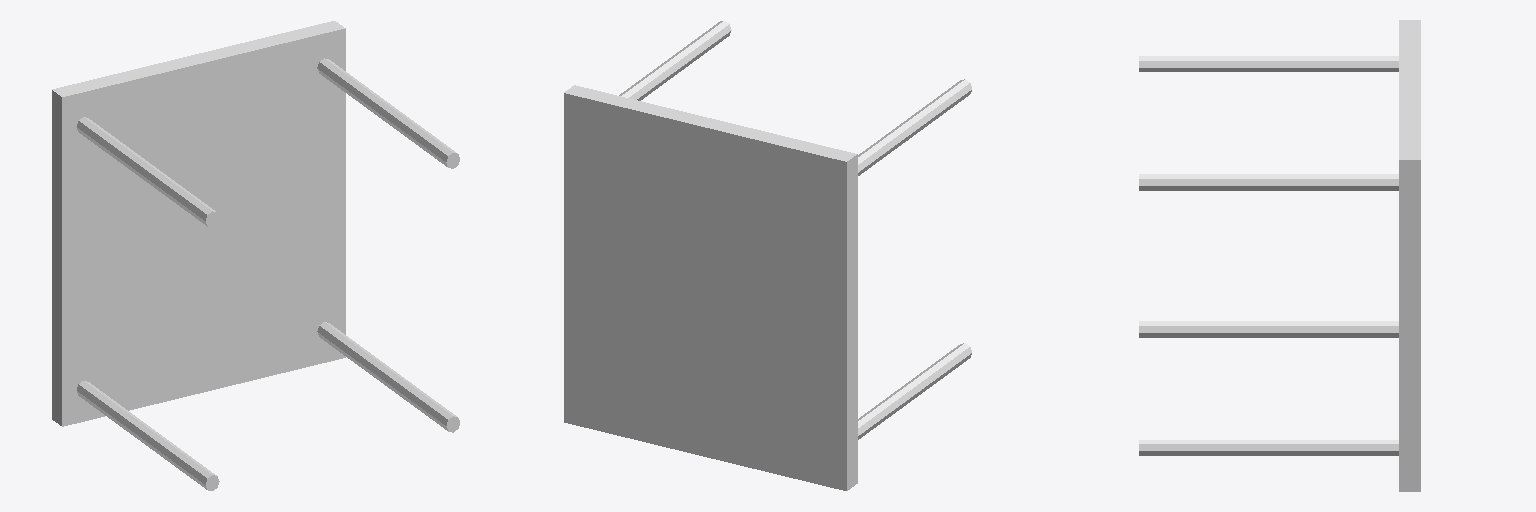
robot.urdf — lab_white_table_1:
<?xml version="1.0"?>
<robot name="lab_white_table_1">
	<link name="base">
        <inertial>
        	<origin xyz="0 0 0" rpy="0 0 0"/>
        	<mass value="0.05"/>
            <inertia ixx="0.000683333"  ixy="0"  ixz="0" iyy="0.000683333" iyz="0" izz="0.000683333" />
        </inertial>
        <visual>
            <!--origin xyz="0.001 0.00288 -0.013" rpy="0 0 0" /-->
            <origin xyz="0.0 0.0 0.0" rpy="0 0 0" />
            <geometry>
                <mesh filename="ioclab_files/white_table_995_895_765.dae" scale="1 1 1"/>
            </geometry>
            <!--
            <material>
                <color rgba="1 0 0 1" />
            </material>
            -->
        </visual>
        <collision>
            <geometry>
                <mesh filename="ioclab_files/white_table_995_895_765.dae" scale="1 1 1"/>
            </geometry>
            <material>
                <color rgba="1 0 0 1" />
            </material>
        </collision>
	</link>
</robot>

--- Render facts (derived) ---
The picture shows the robot from 3 angles, left to right: view 1: azimuth 30°, elevation 25°; view 2: azimuth 150°, elevation 25°; view 3: azimuth 270°, elevation 25°; orthographic projection.
Robot: lab_white_table_1 — 1 links, 0 joints (none); root link base; default pose: every joint at zero.
Visible links, largest first — view 1: base; view 2: base; view 3: base.
Link boxes in pixels (x1,y1,x2,y2): base: (52,21,459,490); base: (564,21,971,490); base: (1139,20,1420,491).
Bounding box of the posed robot: 0.895 × 0.765 × 0.995 m (x, y, z).
Meshes: 1 distinct files referenced, 1 mesh visuals loaded (1 Collada DAE).
